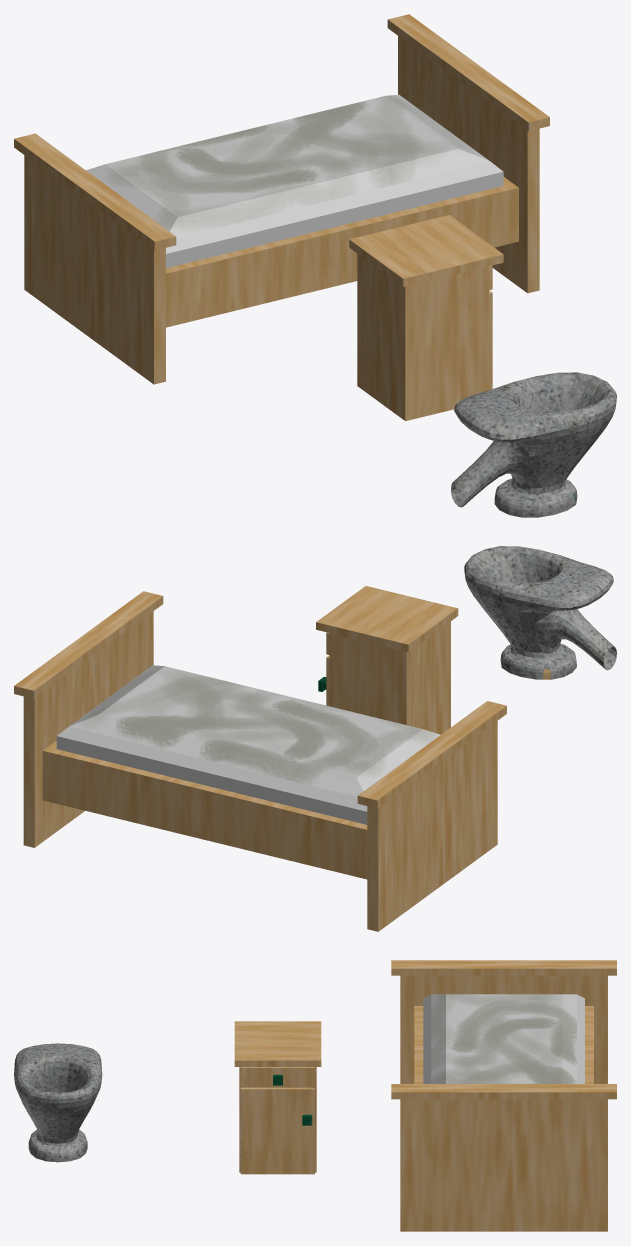
File: Okruzhenie.fbx
3 renders of one model, top to bottom at view 1: azimuth 30°, elevation 25°; view 2: azimuth 150°, elevation 25°; view 3: azimuth 270°, elevation 25°, orthographic. The views are drawn at different scales.
Visible parts, largest first — view 1: Bad, Tumbochka, Unitaz; view 2: Bad, Tumbochka, Unitaz; view 3: Bad, Tumbochka, Unitaz.
Boxes of the visible parts, left/top/right/bottom form: Bad: left=14, top=14, right=549, bottom=384; Tumbochka: left=349, top=215, right=503, bottom=421; Unitaz: left=451, top=372, right=616, bottom=517; Bad: left=14, top=591, right=506, bottom=931; Tumbochka: left=316, top=586, right=458, bottom=734; Unitaz: left=464, top=546, right=616, bottom=679; Bad: left=391, top=960, right=616, bottom=1231; Tumbochka: left=234, top=1021, right=321, bottom=1174; Unitaz: left=14, top=1043, right=102, bottom=1162.
Bounding box in the file's own units: 331 × 142 × 546.
1 material, 1 textured.
